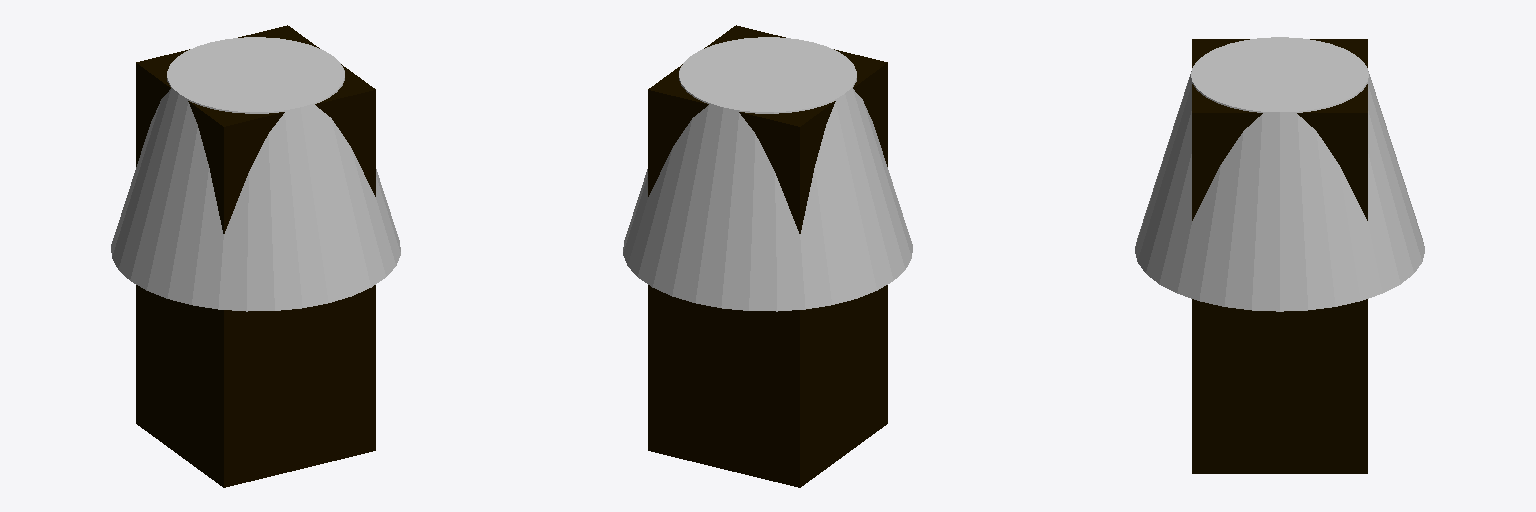
The model's file is lamp_small.obj.
The picture shows the model from 3 angles: view 1: azimuth 30°, elevation 25°; view 2: azimuth 150°, elevation 25°; view 3: azimuth 270°, elevation 25°; orthographic projection.
Visible parts, largest first — view 1: lamp, UCX_lamp_small; view 2: lamp, UCX_lamp_small; view 3: lamp, UCX_lamp_small.
Boxes of the visible parts, <box> form: lamp: <box>111,37,400,311</box>; UCX_lamp_small: <box>136,25,375,487</box>; lamp: <box>623,37,912,311</box>; UCX_lamp_small: <box>648,25,887,487</box>; lamp: <box>1135,37,1424,311</box>; UCX_lamp_small: <box>1192,39,1367,473</box>.
Bounding box in the file's own units: 1.47 × 2.02 × 1.47.